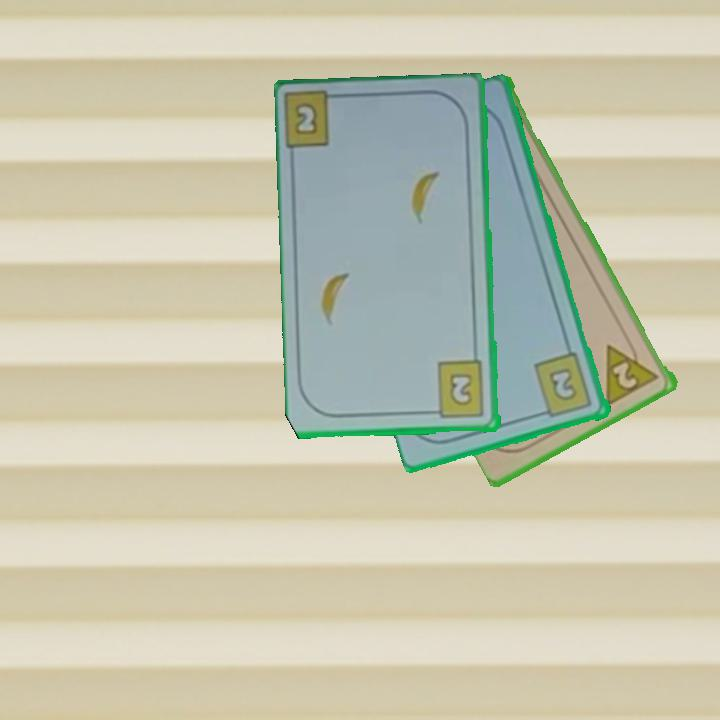2b: (531, 349, 596, 421), (426, 358, 488, 421), (291, 102, 321, 139)
2p: (602, 333, 662, 408)
